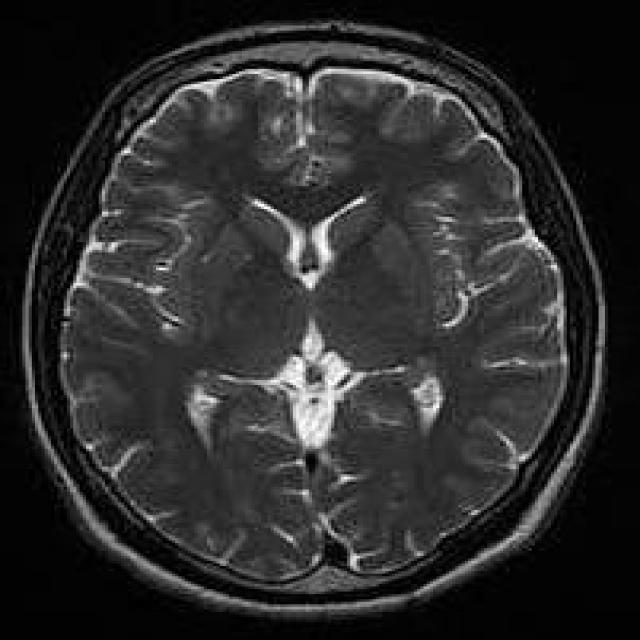notumor: (22, 23, 599, 612)
